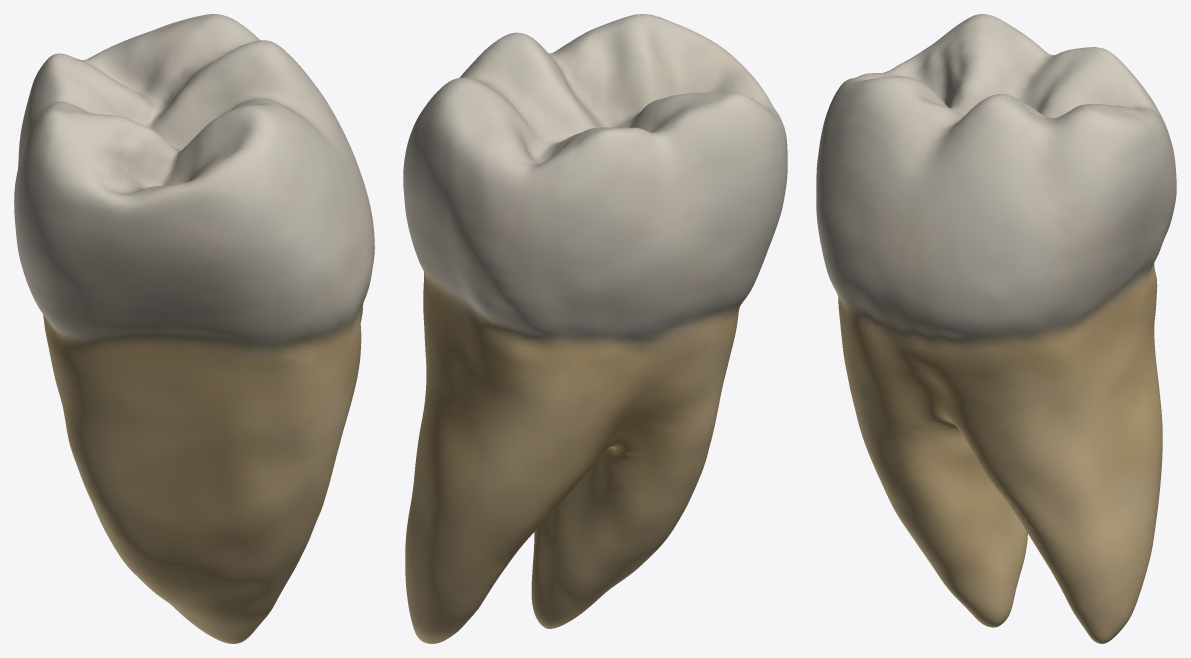
The picture shows the model from 3 angles, left to right: view 1: azimuth 30°, elevation 25°; view 2: azimuth 150°, elevation 25°; view 3: azimuth 270°, elevation 25°; orthographic projection. The views are drawn at different scales.
Visible parts, largest first — view 1: diente-36; view 2: diente-36; view 3: diente-36.
Part boxes in pixels (x1=…): diente-36: x1=14, y1=14, x2=374, y2=643; diente-36: x1=403, y1=14, x2=787, y2=643; diente-36: x1=816, y1=14, x2=1176, y2=643.
Bounding box in the file's own units: 0.0129 × 0.0215 × 0.013.
Materials: 1 (1 with a texture image).
